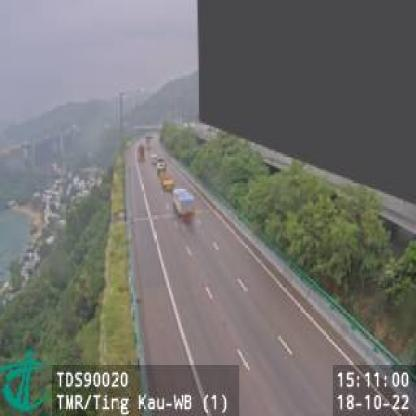Truck: (171, 185, 197, 222), (154, 154, 174, 192)
